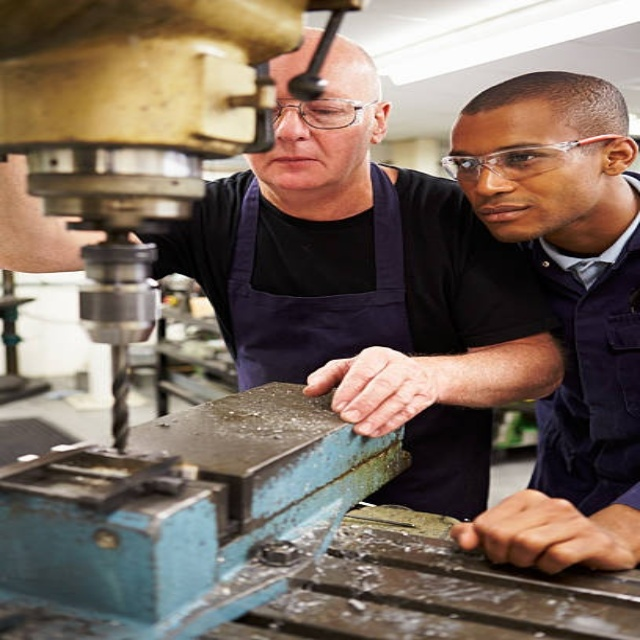Gafas: (439, 134, 622, 182), (271, 97, 384, 130)
Sin_guantes: (450, 483, 632, 579), (304, 343, 438, 440)
Sin_mascara: (471, 199, 541, 235), (268, 148, 326, 186)
